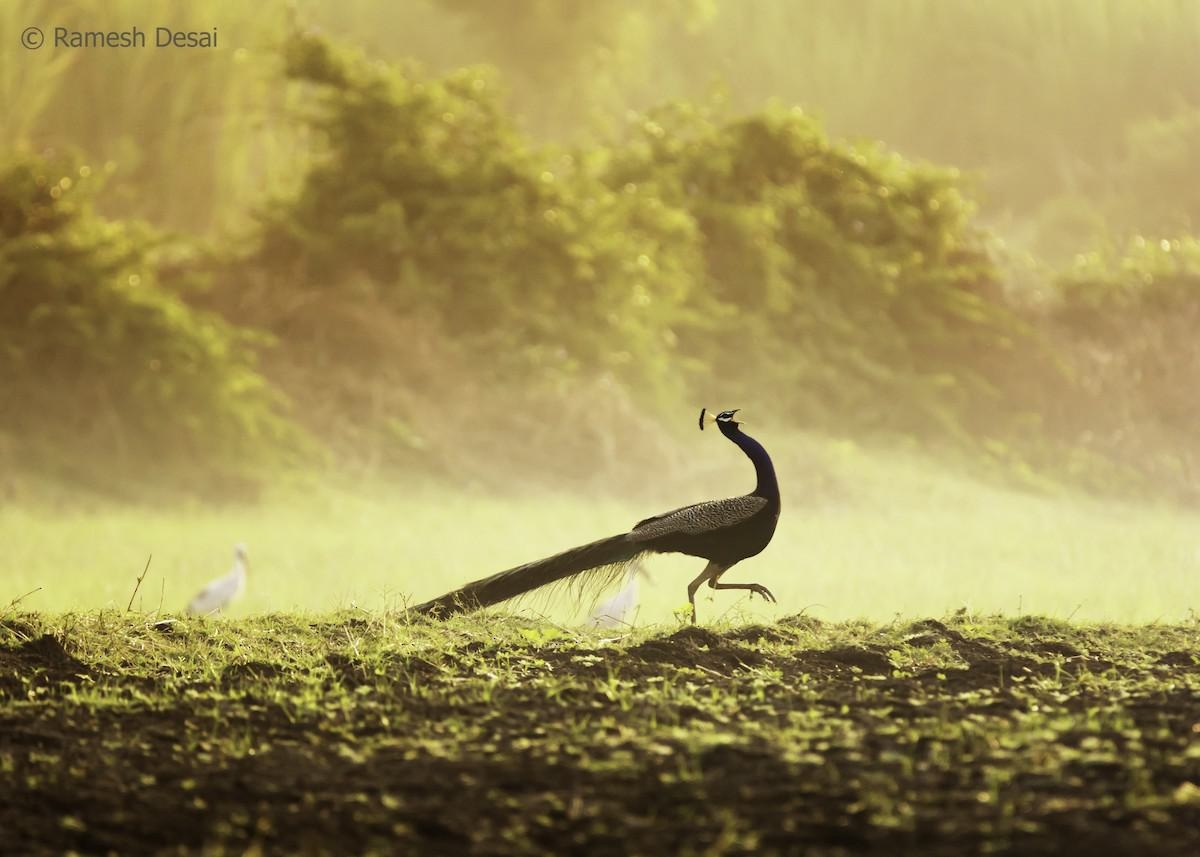peacock: (363, 355, 863, 724)
